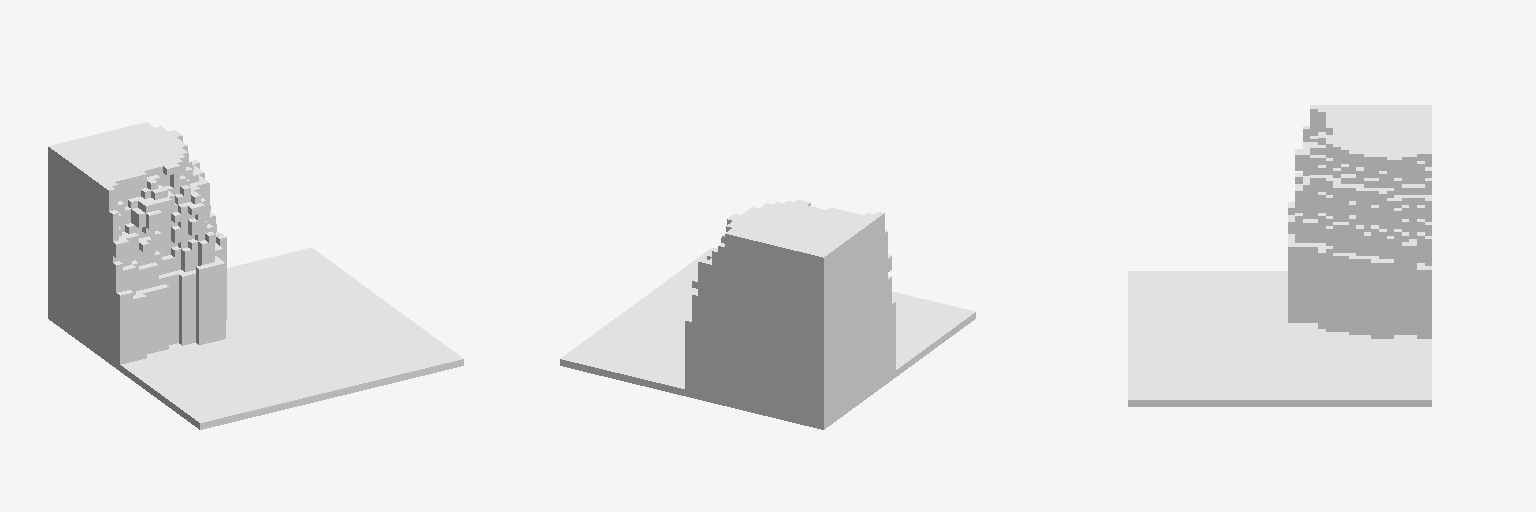
The model's file is tile-quartermountain-2.obj.
The picture shows the model from 3 angles: view 1: azimuth 30°, elevation 25°; view 2: azimuth 150°, elevation 25°; view 3: azimuth 270°, elevation 25°; orthographic projection.
Visible parts, largest first — view 1: tile-quartermountain-2; view 2: tile-quartermountain-2; view 3: tile-quartermountain-2.
Part boxes in pixels (x1,y1,x2,y2): tile-quartermountain-2: (48, 122, 463, 429); tile-quartermountain-2: (560, 199, 975, 429); tile-quartermountain-2: (1128, 105, 1431, 406).
Size of the model in its own units: 40 by 25 by 40.